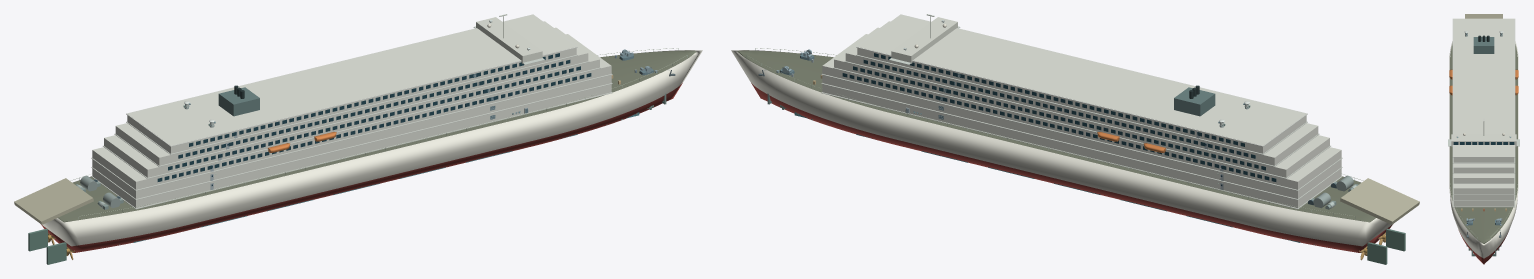
File: stena-estrid.lod1.glb
The picture shows the model from 3 angles, left to right: view 1: azimuth 30°, elevation 25°; view 2: azimuth 150°, elevation 25°; view 3: azimuth 270°, elevation 25°; orthographic projection. The views are drawn at different scales.
Parts seen in each view (by area): view 1: stena-estrid.accommodation.superstructure.deck-6-enclosure.1, stena-estrid.structure.hull.outer-hull-shell.1, stena-estrid.structure.decks.main-strength-deck.1, stena-estrid.accommodation.superstructure.deck-2-enclosure.1, stena-estrid.accommodation.superstructure.deck-1-enclosure.1, stena-estrid.accommodation.superstructure.deck-3-enclosure.1, stena-estrid.accommodation.superstructure.deck-4-enclosure.1, stena-estrid.accommodation.superstructure.deck-5-enclosure.1, stena-estrid.structure.hull.antifouling-underwater-shell.1, stena-estrid.cargo.vehicle-access.stern-loading-ramp.1, stena-estrid.navigation.bridge.wheelhouse.1, stena-estrid.accommodation.superstructure.superstructure-wea (+8 smaller); view 2: stena-estrid.accommodation.superstructure.deck-6-enclosure.1, stena-estrid.structure.hull.outer-hull-shell.1, stena-estrid.structure.decks.main-strength-deck.1, stena-estrid.accommodation.superstructure.deck-2-enclosure.1, stena-estrid.accommodation.superstructure.deck-1-enclosure.1, stena-estrid.accommodation.superstructure.deck-3-enclosure.1, stena-estrid.accommodation.superstructure.deck-4-enclosure.1, stena-estrid.accommodation.superstructure.deck-5-enclosure.1, stena-estrid.structure.hull.antifouling-underwater-shell.1, stena-estrid.cargo.vehicle-access.stern-loading-ramp.1, stena-estrid.navigation.bridge.wheelhouse.1, stena-estrid.accommodation.superstructure.superstructure-wea (+8 smaller); view 3: stena-estrid.accommodation.superstructure.deck-6-enclosure.1, stena-estrid.structure.decks.main-strength-deck.1, stena-estrid.structure.hull.outer-hull-shell.1, stena-estrid.accommodation.superstructure.deck-4-enclosure.1, stena-estrid.accommodation.superstructure.deck-3-enclosure.1, stena-estrid.accommodation.superstructure.deck-5-enclosure.1, stena-estrid.navigation.bridge.wheelhouse.1, stena-estrid.accommodation.superstructure.superstructure-wea, stena-estrid.accommodation.superstructure.deck-2-enclosure.1, stena-estrid.accommodation.superstructure.deck-1-enclosure.1, stena-estrid.propulsion.exhaust.exhaust-casing.1, stena-estrid.cargo.vehicle-access.stern-loading-ramp.1 (+7 smaller).
Boxes of the visible parts, x1,y1,x2,y2 form: stena-estrid.accommodation.superstructure.deck-6-enclosure.1: (127, 15, 576, 153); stena-estrid.structure.hull.outer-hull-shell.1: (42, 50, 702, 246); stena-estrid.structure.decks.main-strength-deck.1: (58, 50, 696, 222); stena-estrid.accommodation.superstructure.deck-2-enclosure.1: (92, 75, 611, 198); stena-estrid.accommodation.superstructure.deck-1-enclosure.1: (92, 84, 611, 208); stena-estrid.accommodation.superstructure.deck-3-enclosure.1: (92, 34, 611, 189); stena-estrid.accommodation.superstructure.deck-4-enclosure.1: (104, 27, 599, 177); stena-estrid.accommodation.superstructure.deck-5-enclosure.1: (115, 21, 588, 165); stena-estrid.structure.hull.antifouling-underwater-shell.1: (41, 83, 682, 252); stena-estrid.cargo.vehicle-access.stern-loading-ramp.1: (14, 178, 93, 224); stena-estrid.navigation.bridge.wheelhouse.1: (476, 17, 542, 63); stena-estrid.accommodation.superstructure.superstructure-wea: (126, 14, 577, 146); stena-estrid.accommodation.superstructure.deck-6-enclosure.1: (857, 15, 1306, 153); stena-estrid.structure.hull.outer-hull-shell.1: (731, 50, 1391, 246); stena-estrid.structure.decks.main-strength-deck.1: (737, 50, 1375, 222); stena-estrid.accommodation.superstructure.deck-2-enclosure.1: (822, 75, 1341, 198); stena-estrid.accommodation.superstructure.deck-1-enclosure.1: (822, 84, 1341, 208); stena-estrid.accommodation.superstructure.deck-3-enclosure.1: (822, 34, 1341, 189); stena-estrid.accommodation.superstructure.deck-4-enclosure.1: (834, 27, 1329, 177); stena-estrid.accommodation.superstructure.deck-5-enclosure.1: (845, 21, 1318, 165); stena-estrid.structure.hull.antifouling-underwater-shell.1: (751, 83, 1392, 252); stena-estrid.cargo.vehicle-access.stern-loading-ramp.1: (1340, 178, 1419, 224); stena-estrid.navigation.bridge.wheelhouse.1: (891, 17, 957, 63); stena-estrid.accommodation.superstructure.superstructure-wea: (856, 14, 1307, 146); stena-estrid.accommodation.superstructure.deck-6-enclosure.1: (1453, 18, 1514, 162); stena-estrid.structure.decks.main-strength-deck.1: (1450, 44, 1517, 243); stena-estrid.structure.hull.outer-hull-shell.1: (1449, 41, 1518, 258); stena-estrid.accommodation.superstructure.deck-4-enclosure.1: (1453, 173, 1514, 183); stena-estrid.accommodation.superstructure.deck-3-enclosure.1: (1453, 184, 1514, 193); stena-estrid.accommodation.superstructure.deck-5-enclosure.1: (1453, 163, 1514, 172); stena-estrid.navigation.bridge.wheelhouse.1: (1451, 134, 1516, 146); stena-estrid.accommodation.superstructure.superstructure-wea: (1452, 18, 1515, 157); stena-estrid.accommodation.superstructure.deck-2-enclosure.1: (1453, 194, 1514, 200); stena-estrid.accommodation.superstructure.deck-1-enclosure.1: (1453, 201, 1514, 206); stena-estrid.propulsion.exhaust.exhaust-casing.1: (1473, 37, 1494, 53); stena-estrid.cargo.vehicle-access.stern-loading-ramp.1: (1465, 14, 1502, 18).
Size of the model in its own units: 219 by 40.05 by 28.95.
